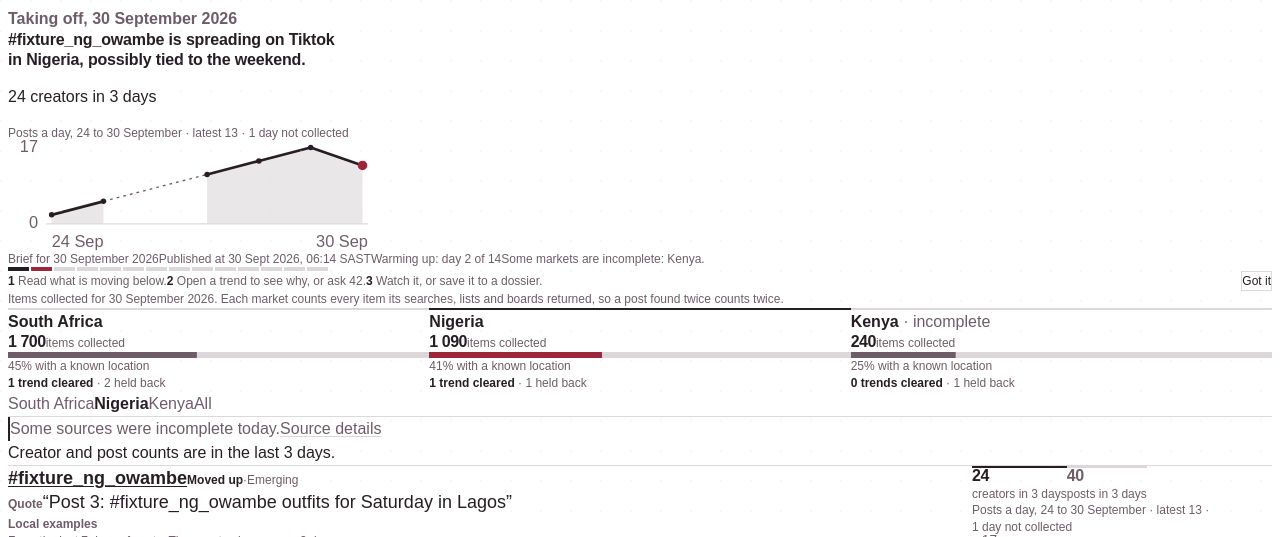
Searching now: Today selected and All groups leave cards and reads unchanged
What coordinates should you click on to do the following:
click the tab "All"
I would click on:
 (203, 404)
Its box is [194,392,212,416].
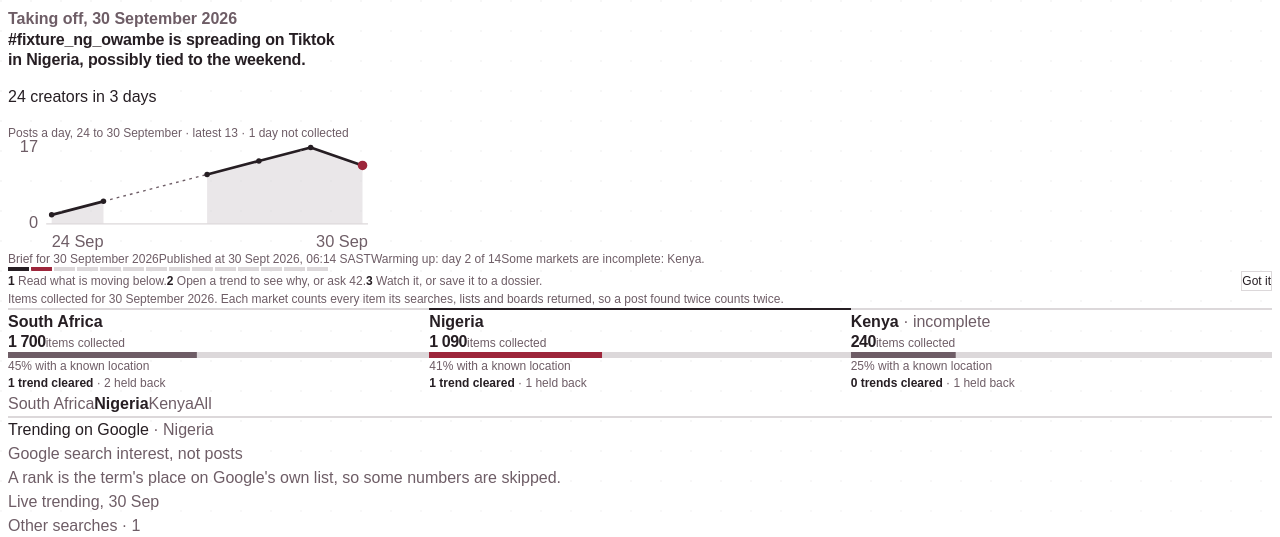
Expected: the element with class "t42-headline" shows "#fixture_ng_owambe is spreading on Tiktok in Nigeria, possibly tied to the weekend.", [8,31,335,68]
What coordinates should you click on to do the following:
click the tab "All"
I would click on:
 (203, 404)
Its box is [194,392,212,416].
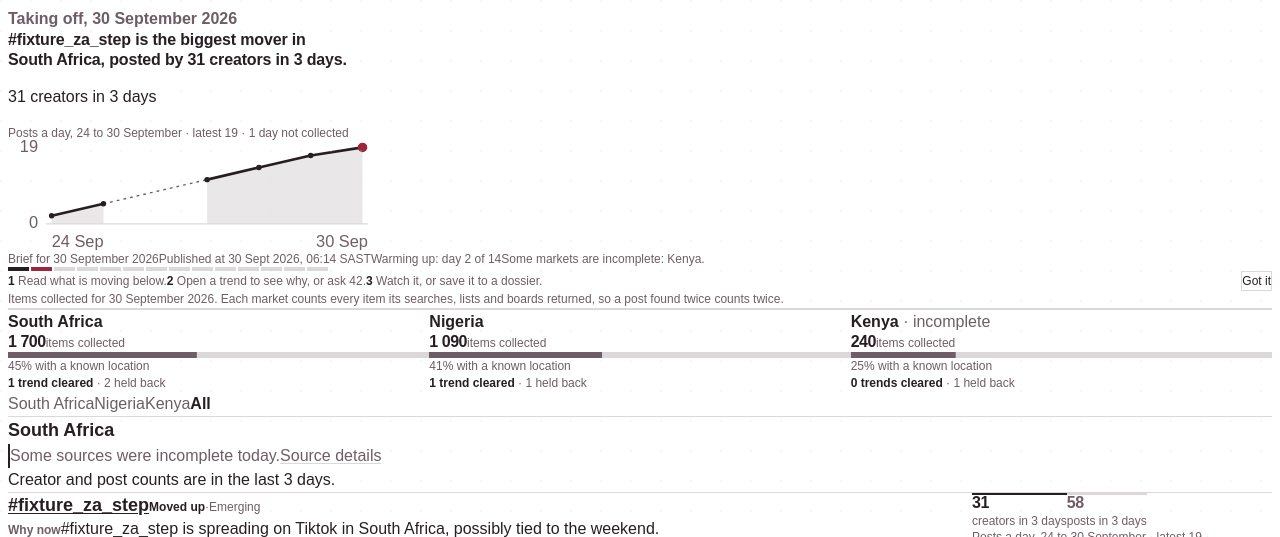
Result: the element with class "t42-headline" shows "#fixture_za_step is the biggest mover in South Africa, posted by 31 creators in 3 days." at [8,31,347,68]
